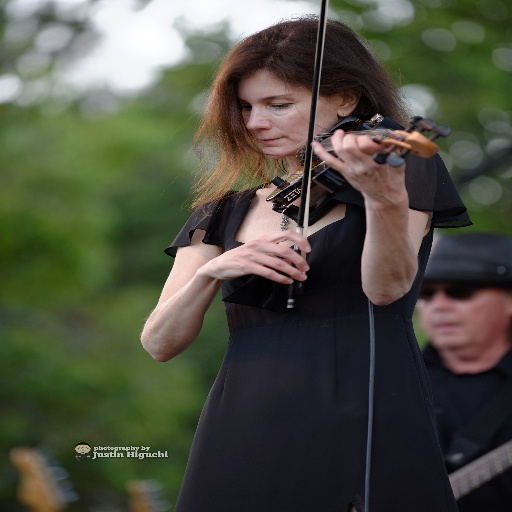hand: (199, 229, 328, 296), (308, 128, 406, 197)
